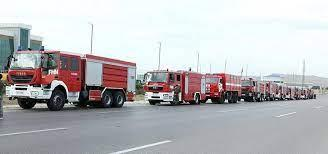Fire-engine: (10, 50, 136, 108), (145, 70, 209, 103)
